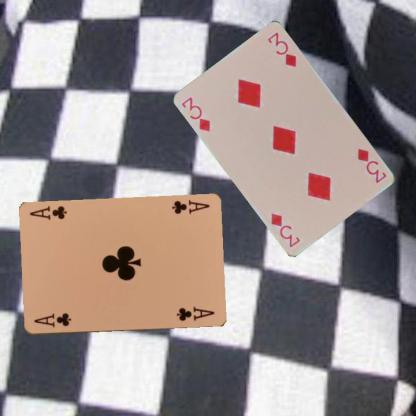3d: (179, 94, 212, 133), (355, 146, 388, 184)
Ac: (31, 310, 72, 330), (169, 197, 211, 216)
